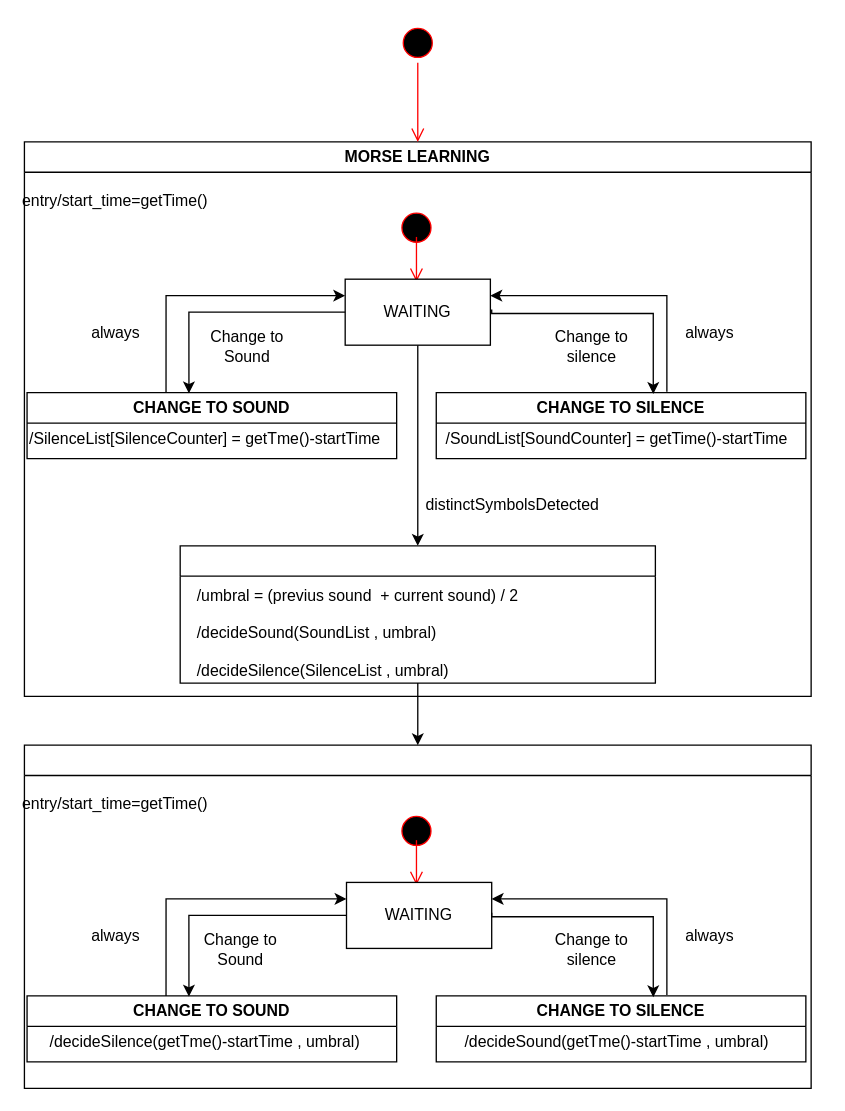
Image size: 845x1111. Some labels were removed from this diagram. Each missing label, with the box of its shape:
END MORSE LEARNING: (179, 544, 655, 683)
REAL TIME DECODER: (23, 744, 811, 1088)
